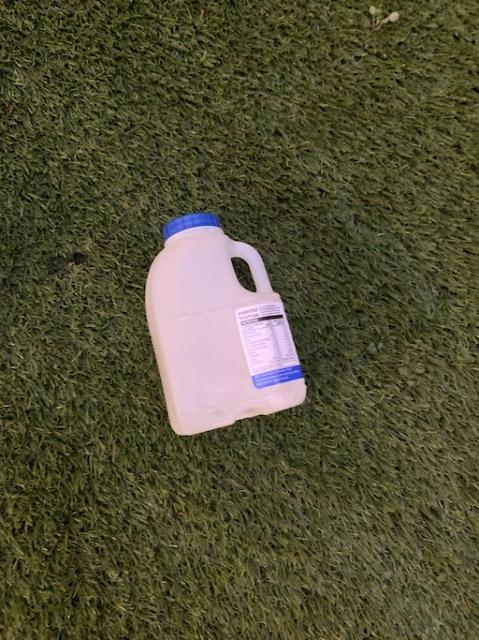plastic: (145, 213, 305, 433)
